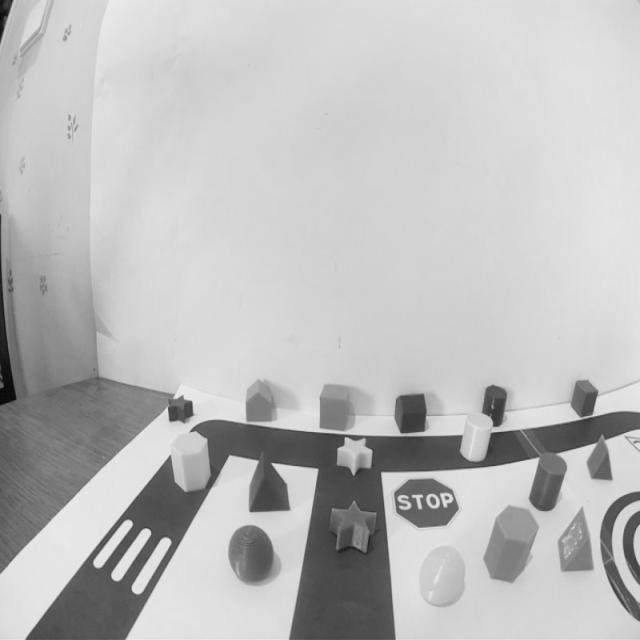ball: (414, 542, 470, 614), (225, 519, 277, 591)
cube: (316, 378, 353, 434), (568, 374, 597, 422)
cylinder: (526, 448, 570, 513), (459, 408, 496, 468), (481, 380, 509, 430)
hexagon: (483, 502, 542, 588), (168, 428, 213, 497)
home: (391, 388, 430, 438), (242, 376, 276, 425)
lineStraight: (286, 474, 394, 640)
star: (326, 499, 384, 558), (333, 433, 376, 480), (164, 394, 197, 426)
stop: (376, 474, 464, 532)
triangle: (241, 449, 297, 516), (553, 501, 595, 578)
zebracross: (83, 504, 178, 608), (583, 434, 616, 484)
